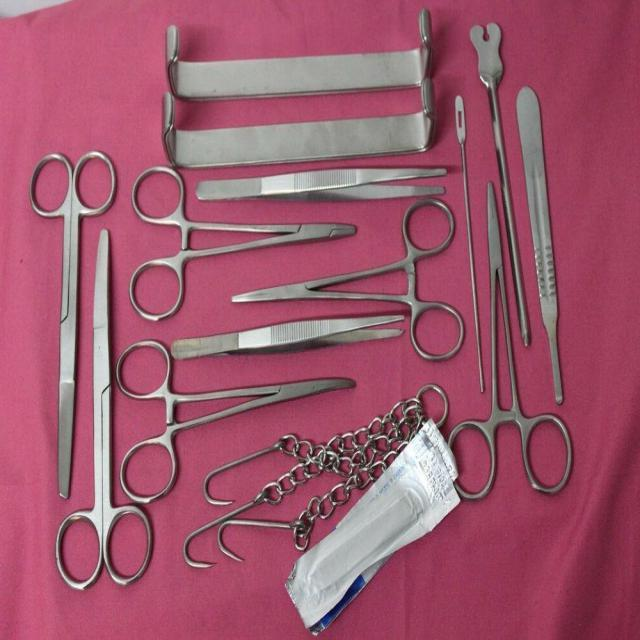Army_navy: (160, 74, 436, 173), (164, 5, 434, 104)
Forceps: (168, 309, 406, 362), (194, 164, 449, 205)
Hemostat: (113, 339, 357, 508), (228, 194, 466, 365)
Mayo_metz: (53, 226, 155, 592), (28, 147, 118, 503)
Scalpel: (514, 83, 566, 404)
